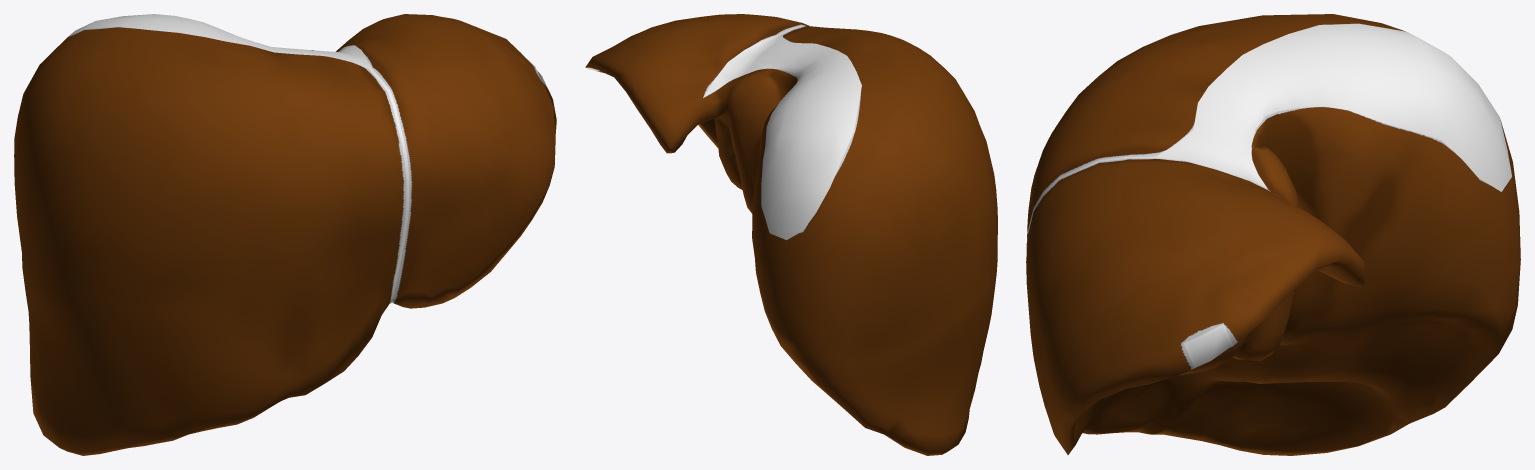
Rendered from HEALTHY_LIVER(3).glb.
3 views of the same model, side by side, from view 1: azimuth 30°, elevation 25°; view 2: azimuth 150°, elevation 25°; view 3: azimuth 270°, elevation 25° (orthographic). The views are drawn at different scales.
Visible parts, largest first — view 1: Liver; view 2: Liver; view 3: Liver.
Part boxes in pixels (bbox=[...]): Liver: bbox=[14, 14, 556, 455]; Liver: bbox=[585, 14, 997, 455]; Liver: bbox=[1026, 14, 1520, 455].
Bounding box in the file's own units: 0.2084 × 0.1678 × 0.154.
2 materials, 1 textured.
